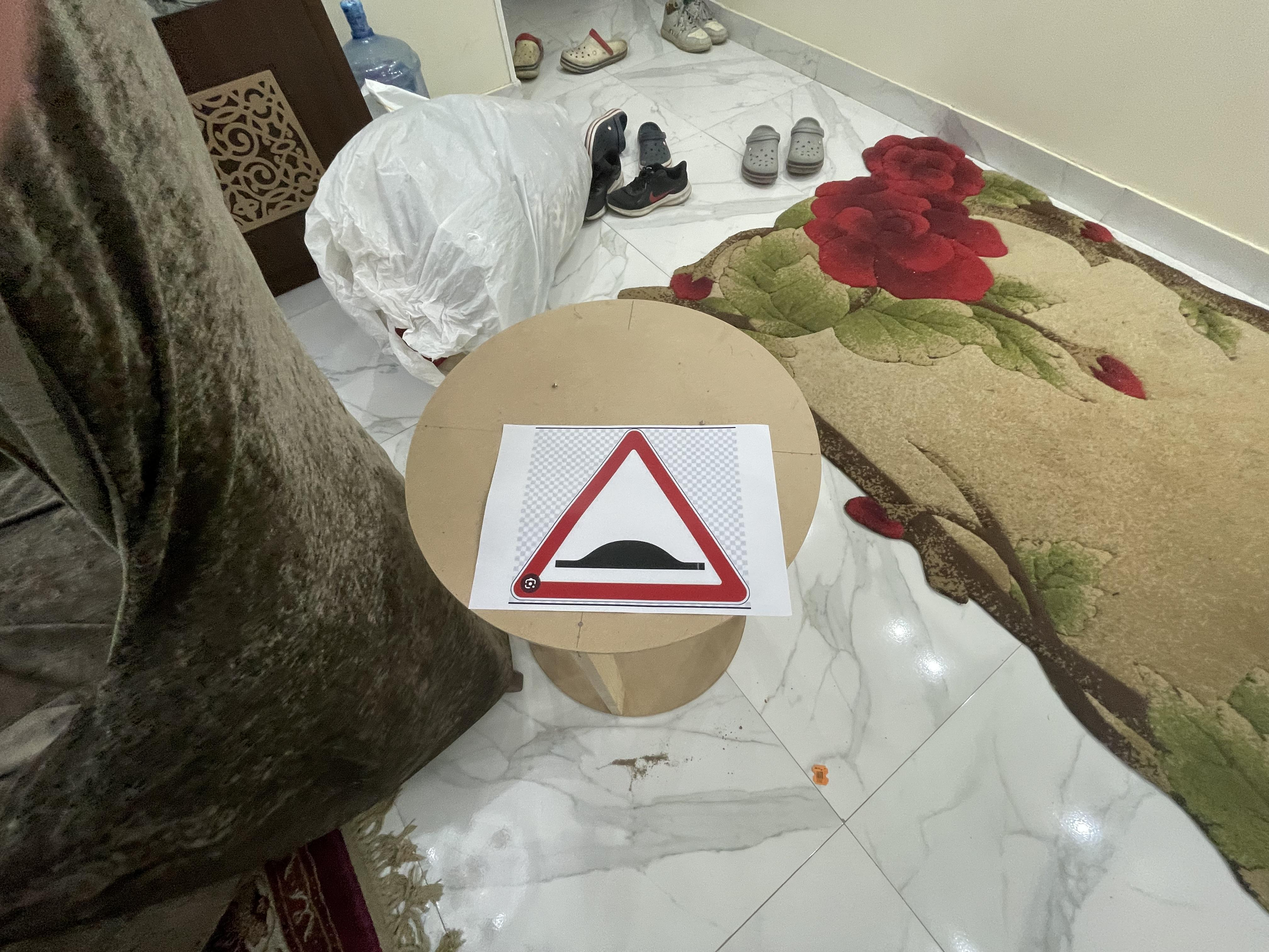Hump: (452, 378, 714, 566)
